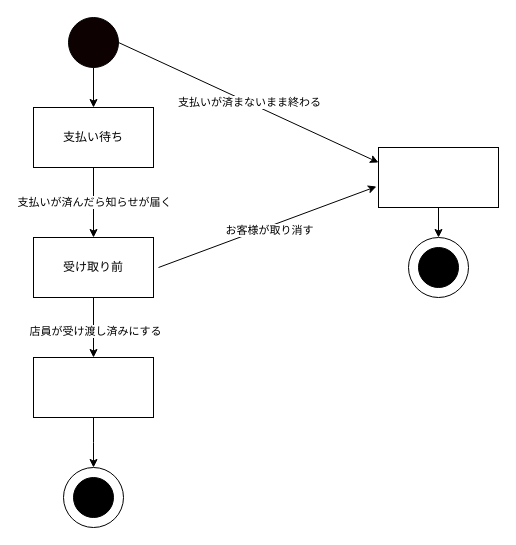
The diagram is 516 pixels wide and 545 high, and some of its shapes have lost their labels. Each missing label, with the centre of its shape:
"取消済み" belongs at [438,177].
"受け渡し済み" belongs at [93,387].
